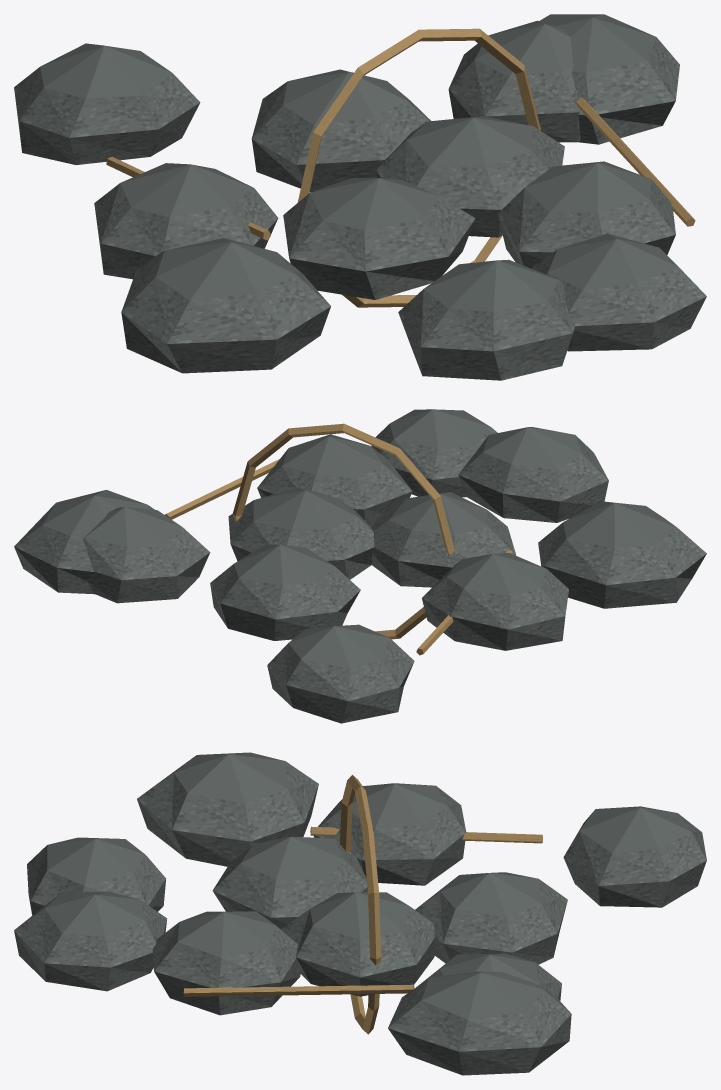
File: en-019_signal_hill_dressing_set__stones.obj
The picture shows the model from 3 angles, top to bottom: view 1: azimuth 30°, elevation 25°; view 2: azimuth 150°, elevation 25°; view 3: azimuth 270°, elevation 25°; orthographic projection. The views are drawn at different scales.
Parts seen in each view (by area): view 1: en-019_signal_hill_dressing_set__stones; view 2: en-019_signal_hill_dressing_set__stones; view 3: en-019_signal_hill_dressing_set__stones.
Part boxes in pixels (left/top/right/bottom): en-019_signal_hill_dressing_set__stones: left=14, top=14, right=706, bottom=380; en-019_signal_hill_dressing_set__stones: left=14, top=409, right=706, bottom=723; en-019_signal_hill_dressing_set__stones: left=14, top=752, right=706, bottom=1075.
Size of the model in its own units: 1.31 by 0.512 by 1.36.
2 materials, 2 textured.
